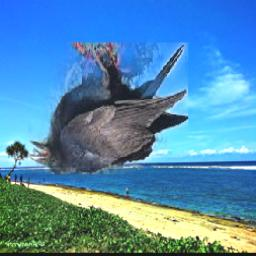Crow: (28, 44, 188, 175)
